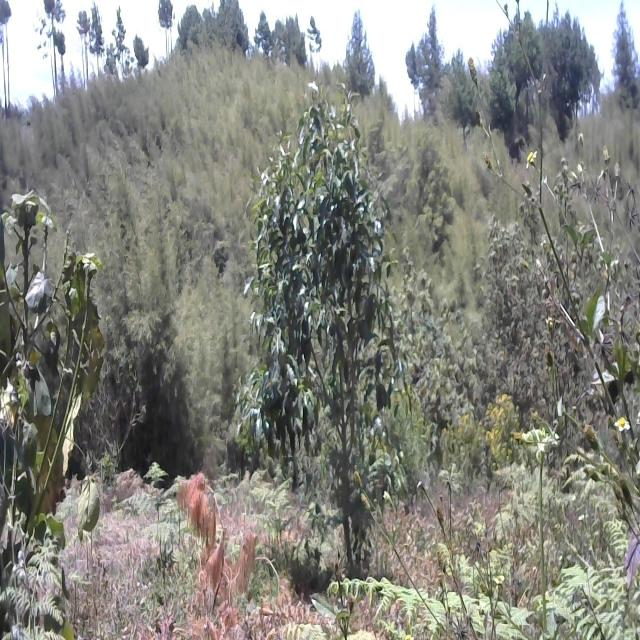Prunus Africana: (240, 75, 412, 585)
